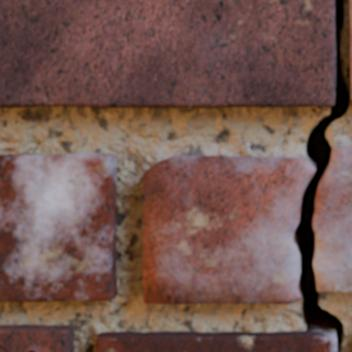brick: (0, 0, 335, 106), (0, 154, 116, 301), (97, 332, 336, 351), (0, 326, 73, 351), (350, 0, 351, 97)
broken_brick: (142, 155, 313, 304), (314, 146, 351, 292)
crack: (292, 0, 351, 351), (0, 344, 8, 351)
